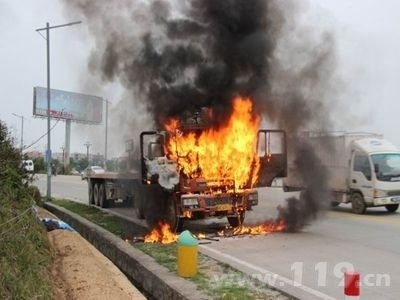fire: (164, 96, 264, 187), (220, 218, 288, 236), (143, 219, 177, 244)
